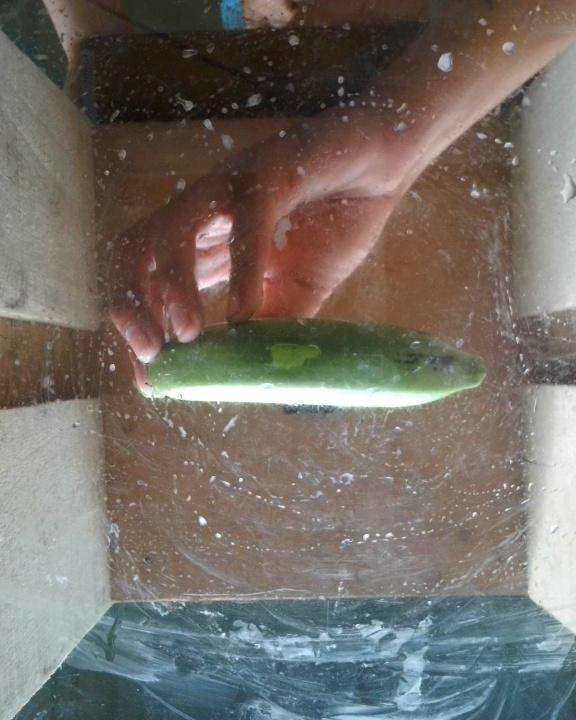CLASS B: (133, 307, 505, 417)
Class A: (386, 340, 469, 384)
